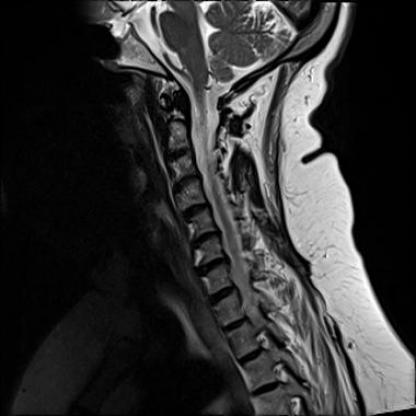Disc Bulgerotation: (188, 230, 224, 247)
